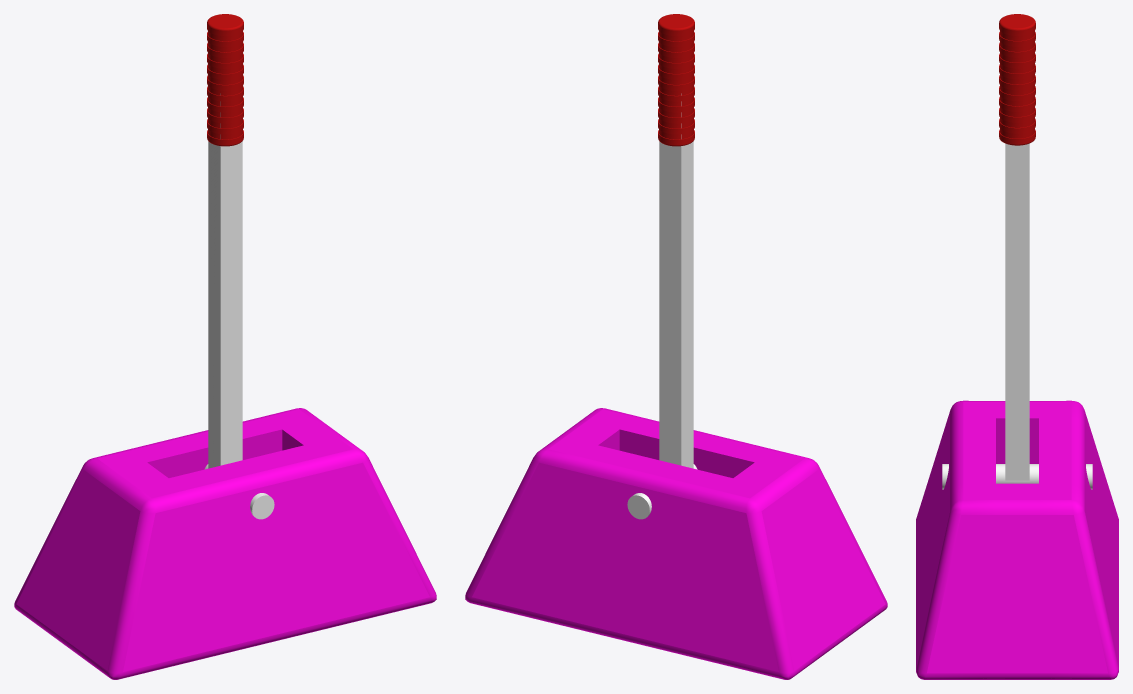
3 views of the same model, side by side, from view 1: azimuth 30°, elevation 25°; view 2: azimuth 150°, elevation 25°; view 3: azimuth 270°, elevation 25° (orthographic).
Parts seen in each view (by area): view 1: 立方体, 圆柱_2; view 2: 立方体, 圆柱_2; view 3: 立方体, 圆柱_2.
Part boxes in pixels (box(x1,y1,x2,y2)): 立方体: box(14, 408, 436, 679); 圆柱_2: box(204, 14, 274, 519); 立方体: box(465, 408, 887, 679); 圆柱_2: box(627, 14, 697, 519); 立方体: box(916, 400, 1118, 679); 圆柱_2: box(942, 14, 1092, 489).
Bounding box in the file's own units: 161 × 274 × 86.6.
